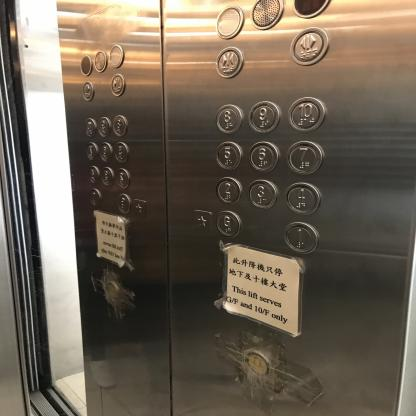1: (281, 221, 319, 254)
10: (286, 96, 326, 132)
2: (214, 177, 242, 205)
3: (246, 180, 278, 210)
4: (283, 182, 320, 215)
5: (214, 141, 243, 170)
6: (246, 141, 280, 173)
7: (285, 141, 323, 175)
8: (214, 104, 243, 135)
9: (247, 100, 280, 134)
G: (214, 210, 242, 238)
close: (214, 46, 244, 79), (110, 72, 126, 96), (80, 80, 94, 102)
empty: (214, 4, 244, 39), (108, 44, 124, 68), (79, 54, 92, 76)
open: (288, 26, 330, 66)
s: (193, 209, 212, 233), (132, 198, 146, 217)
speaker: (249, 0, 284, 30), (93, 50, 107, 72)
unknown: (113, 141, 129, 164), (112, 114, 127, 137), (116, 192, 131, 214), (115, 168, 130, 189), (97, 116, 111, 138), (98, 142, 113, 162), (100, 166, 114, 187), (88, 188, 102, 206), (87, 165, 100, 184), (86, 142, 98, 161), (84, 118, 96, 137)
